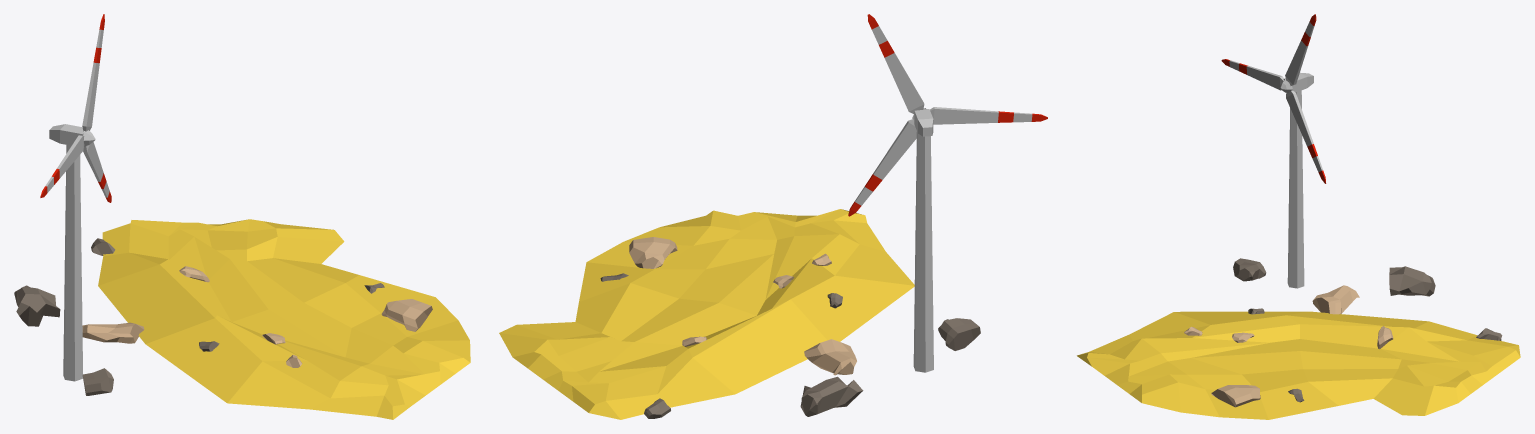
File: street4_02_6.fbx
3 renders of one model, left to right at view 1: azimuth 30°, elevation 25°; view 2: azimuth 150°, elevation 25°; view 3: azimuth 270°, elevation 25°, orthographic. The views are drawn at different scales.
Visible parts, largest first — view 1: sandWay02x02, wka, stones.016, stones.015, stones.017, stones.013; view 2: sandWay02x02, wka, stones.016, stones.017, stones.015, stones.013; view 3: sandWay02x02, wka, stones.016, stones.017, stones.015, stones.013.
Boxes of the visible parts, left/top/right/bottom form: sandWay02x02: left=98, top=219, right=470, bottom=419; wka: left=40, top=14, right=111, bottom=381; stones.016: left=14, top=285, right=60, bottom=326; stones.015: left=381, top=299, right=432, bottom=331; stones.017: left=82, top=322, right=144, bottom=343; stones.013: left=82, top=368, right=113, bottom=395; sandWay02x02: left=499, top=209, right=914, bottom=419; wka: left=848, top=14, right=1047, bottom=372; stones.016: left=800, top=376, right=863, bottom=416; stones.017: left=804, top=339, right=856, bottom=375; stones.015: left=629, top=237, right=677, bottom=268; stones.013: left=938, top=318, right=980, bottom=350; sandWay02x02: left=1077, top=311, right=1520, bottom=419; wka: left=1221, top=14, right=1326, bottom=288; stones.016: left=1389, top=266, right=1435, bottom=296; stones.017: left=1312, top=285, right=1359, bottom=314; stones.015: left=1211, top=385, right=1260, bottom=407; stones.013: left=1233, top=258, right=1266, bottom=281.
Size of the model in its own units: 91.53 by 71.17 by 99.55.
